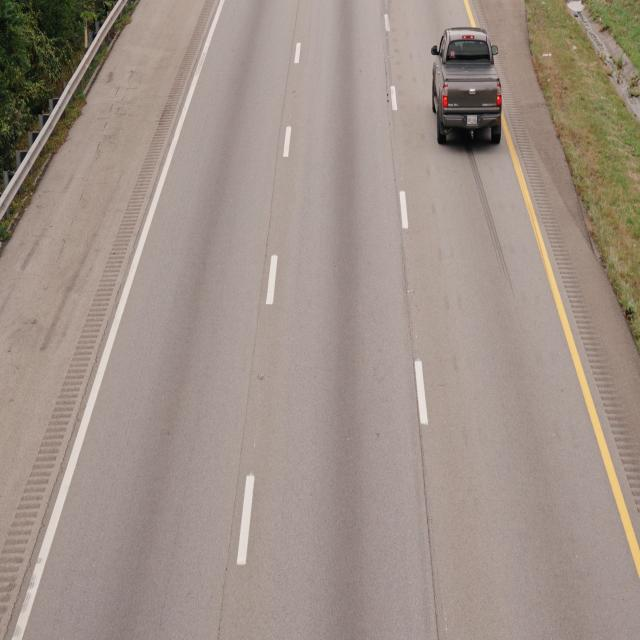Car: (426, 23, 504, 153)
